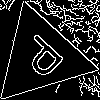P: (16, 31, 73, 88)
